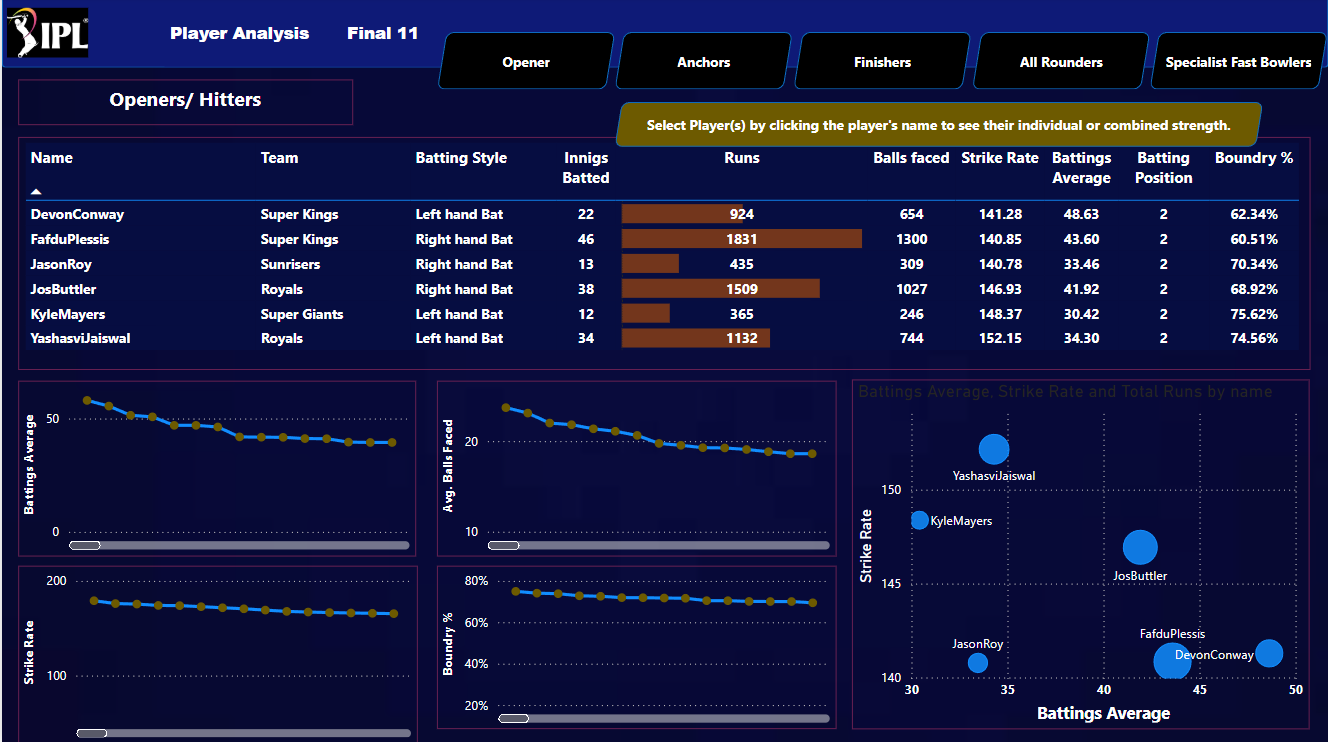

The page's visual inventory and layout, read from the dashboard file:
{"tool":"powerbi","page":{"name":"Openers","canvas":[1280,720],"ordinal":0},"visuals":[{"type":"shape","box":[0,0,1280,68.3],"z":0},{"type":"actionButton","box":[156.4,0,145.1,68.3],"z":1000},{"type":"actionButton","box":[301.5,0,132.3,68.3],"z":2000},{"type":"shape","box":[591.6,34.1,172.1,55.5],"z":3000},{"type":"shape","box":[763.7,34.1,172.1,55.5],"z":4000},{"type":"shape","box":[935.8,34.1,172.1,55.5],"z":5000},{"type":"shape","box":[1107.9,34.1,172.1,55.5],"z":6000},{"type":"shape","box":[419.6,34.1,172.1,55.5],"z":7000},{"type":"tableEx","fields":{"Values":["dim_players.name","dim_players.team","dim_players.battingStyle","__Measures.Total Innigs Batted","__Measures.Total Runs","__Measures.Total Balls faced","__Measures.Strike Rate","__Measures.Battings Average","__Measures.Batting Position","__Measures.Boundry %"]},"box":[15.6,135.1,1247.3,224.7],"z":8000},{"type":"textbox","box":[15.6,79.6,322.8,44.1],"z":9000},{"type":"lineChart","fields":{"Category":["dim_match_summary.matchDate"],"Y":["__Measures.Battings Average"]},"box":[15.6,369.8,384,169.2],"z":10000},{"type":"lineChart","fields":{"Category":["dim_match_summary.matchDate"],"Y":["__Measures.Avg. Balls Faced"]},"box":[419.6,369.8,385.4,169.2],"z":11000},{"type":"lineChart","fields":{"Category":["dim_match_summary.matchDate"],"Y":["__Measures.Strike Rate"]},"box":[15.6,549,385.4,172.1],"z":12000},{"type":"lineChart","fields":{"Category":["dim_match_summary.matchDate"],"Y":["__Measures.Boundry %"]},"box":[419.6,549,385.4,157.9],"z":13000},{"type":"scatterChart","fields":{"Size":["__Measures.Total Runs"],"X":["__Measures.Battings Average"],"Y":["__Measures.Strike Rate"],"Category":["dim_players.name"]},"box":[820.9,369.3,441.5,337.6],"z":14000},{"type":"shape","box":[591.5,101,626.2,43.3],"z":15000},{"type":"image","box":[0,0,88.1,68.8],"z":16000}]}

Visuals, with their boxes in screenshot pixels (x1, y1, x2, y2), scaled from the page's 1280x720 canvas onto the 1328x742 screenshot:
shape: <box>0,0,1327,70</box>
actionButton: <box>162,0,313,70</box>
actionButton: <box>313,0,450,70</box>
shape: <box>614,35,792,92</box>
shape: <box>792,35,971,92</box>
shape: <box>971,35,1149,92</box>
shape: <box>1149,35,1327,92</box>
shape: <box>435,35,614,92</box>
tableEx - dim_players.name x dim_players.team: <box>16,139,1310,371</box>
textbox: <box>16,82,351,127</box>
lineChart - dim_match_summary.matchDate x __Measures.Battings Average: <box>16,381,415,555</box>
lineChart - dim_match_summary.matchDate x __Measures.Avg. Balls Faced: <box>435,381,835,555</box>
lineChart - dim_match_summary.matchDate x __Measures.Strike Rate: <box>16,566,416,741</box>
lineChart - dim_match_summary.matchDate x __Measures.Boundry %: <box>435,566,835,728</box>
scatterChart - __Measures.Total Runs x __Measures.Battings Average: <box>852,381,1310,728</box>
shape: <box>614,104,1263,149</box>
image: <box>0,0,91,71</box>
